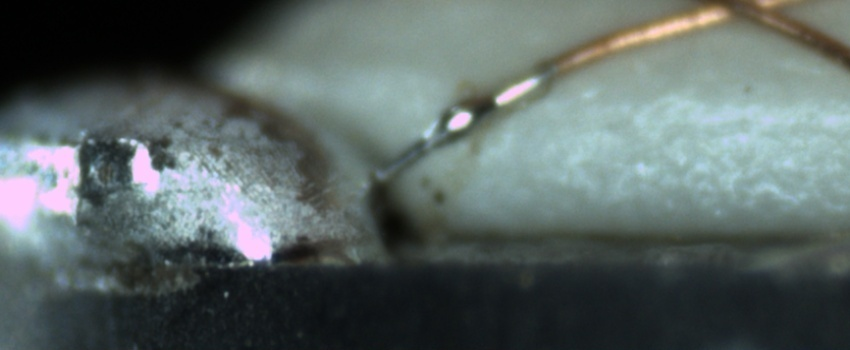CL: (691, 1, 797, 29)
DL: (532, 77, 849, 141)
TB: (430, 95, 483, 144)
TS: (377, 62, 560, 182)
TTCW: (370, 38, 605, 188)
